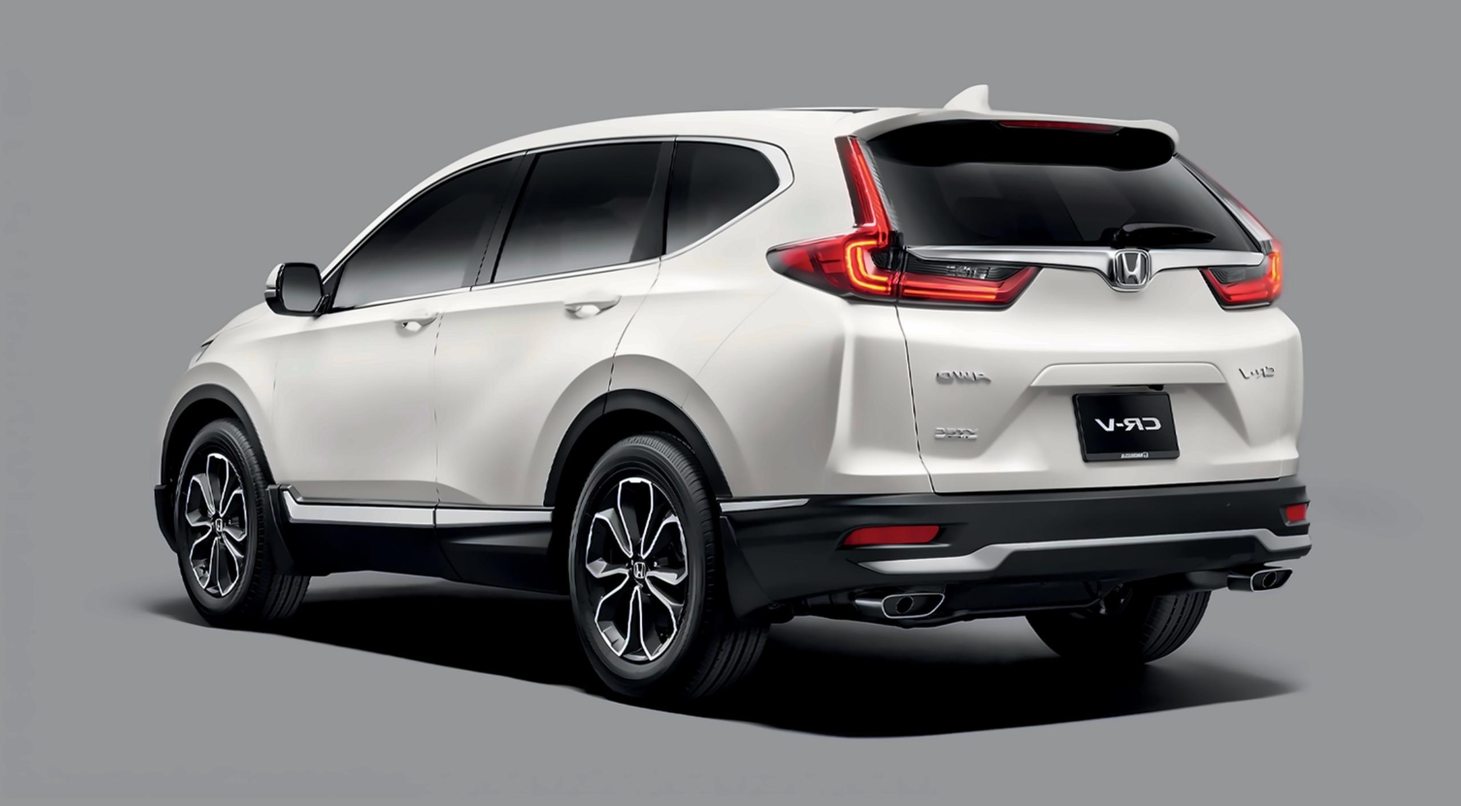Car boot: (888, 243, 1307, 504)
Fender - -F-L-: (158, 294, 284, 487)
Fender - -R-L-: (603, 106, 836, 449)
Passenger-s door - -F-L-: (250, 119, 548, 609)
Passenger-s door - -R-L-: (431, 100, 685, 567)
Rear bumper: (725, 481, 1325, 625)
Rear light - -L-: (762, 134, 1042, 315)
Rear light - -R-: (1192, 231, 1288, 312)
Side bumper - -L-: (270, 481, 573, 614)
Side mirror - -L-: (263, 263, 343, 324)
